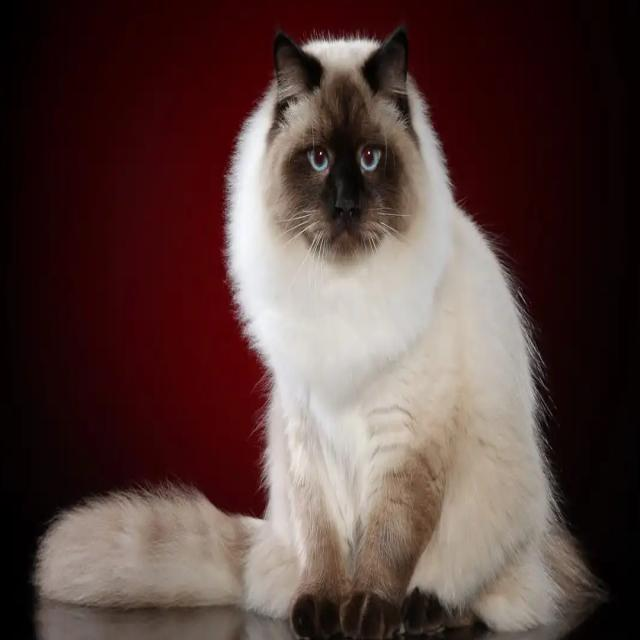Neva Masquerade: (28, 18, 608, 640)
